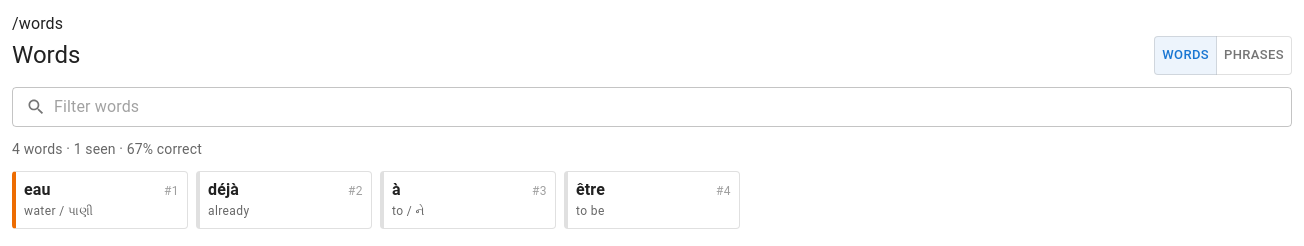
Scenario: /words list › narrows the grid, ignoring diacritics
The width and height of the screenshot is (1304, 246).
expect the text "/words" is shown: met, box [12, 14, 63, 33]
expect the number of links is 4: met, box [12, 171, 188, 229]; [196, 171, 372, 229]; [380, 171, 556, 229]; [564, 171, 740, 229]
Type "etre" into the field labelled "Filter words" at (673, 107), box [54, 87, 1292, 127]
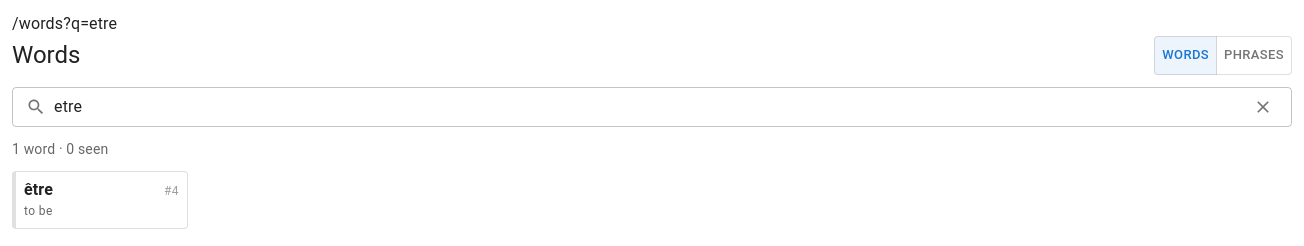
expect the text "être" is shown: met, box [24, 180, 53, 199]
expect the number of links is 1: met, box [12, 171, 188, 229]
expect the text "1 word · 0 seen" is shown: met, box [12, 141, 108, 157]
